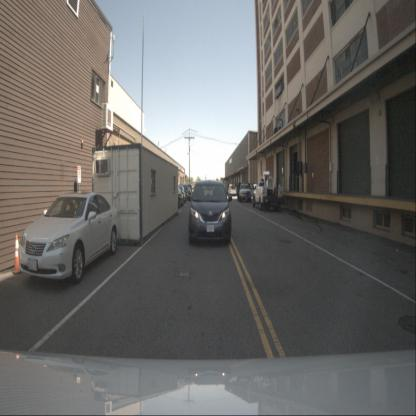cone: (12, 233, 24, 275), (272, 184, 275, 195)
